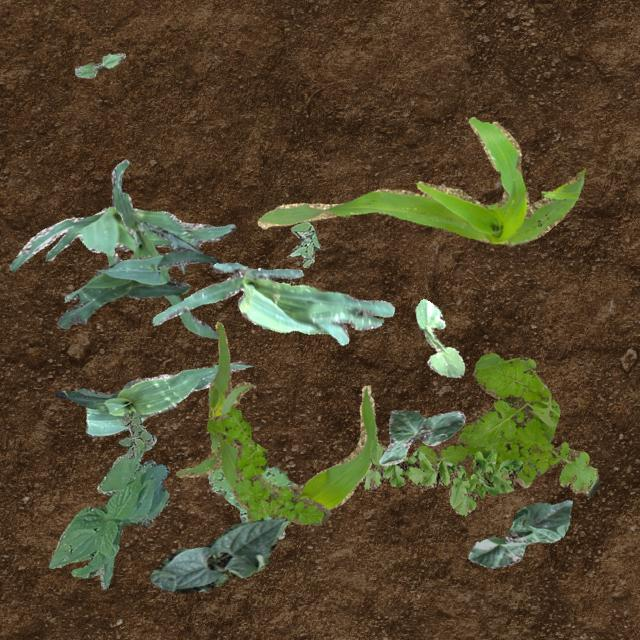crop: (256, 115, 584, 244), (176, 321, 376, 508), (152, 262, 394, 344), (110, 158, 218, 338), (48, 450, 168, 588), (54, 360, 250, 436), (8, 206, 235, 270), (56, 246, 220, 328), (150, 516, 286, 592), (468, 498, 572, 568), (378, 408, 464, 464), (414, 298, 464, 377), (74, 52, 124, 76)
weed: (414, 352, 598, 496), (206, 404, 330, 524), (362, 435, 522, 515), (208, 464, 296, 538), (118, 410, 156, 458), (290, 220, 318, 266)
